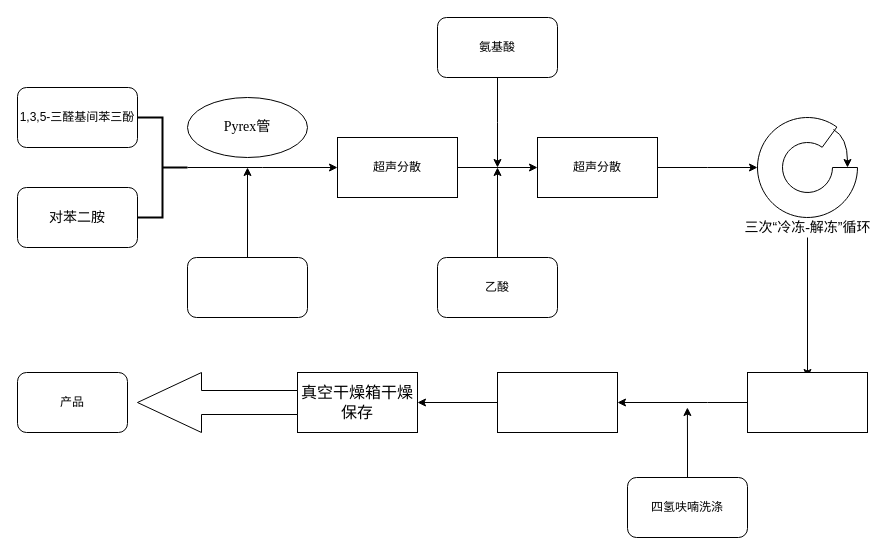
This 895x555 diagram has some shape labels left out. Each missing label, with the centre of its shape:
"1,4- 二氧六环" belongs at point (247, 287).
"烘箱烘干72h" belongs at point (807, 402).
"真空泵抽滤" belongs at point (557, 402).
